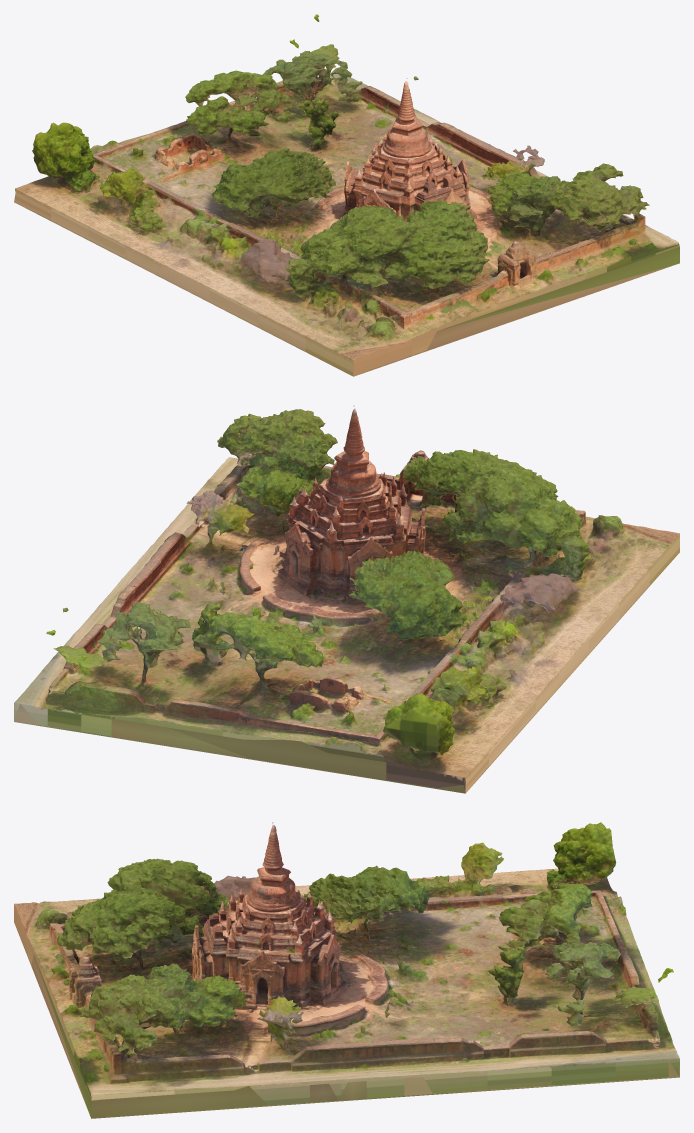
The model's file is bagan_temple_aerial_scan.glb.
The picture shows the model from 3 angles, top to bottom: view 1: azimuth 30°, elevation 25°; view 2: azimuth 150°, elevation 25°; view 3: azimuth 270°, elevation 25°; orthographic projection. The views are drawn at different scales.
Parts seen in each view (by area): view 1: Object_2, Object_3; view 2: Object_2, Object_3; view 3: Object_2, Object_3.
Part boxes in pixels (x1,y1,x2,y2): Object_2: (14, 14, 679, 376); Object_3: (38, 21, 644, 355); Object_2: (14, 405, 679, 793); Object_3: (52, 413, 666, 792); Object_2: (14, 822, 679, 1118); Object_3: (21, 828, 673, 1102).
Size of the model in its own units: 81.76 by 30.77 by 96.67.
Materials: 1 (1 with a texture image).
